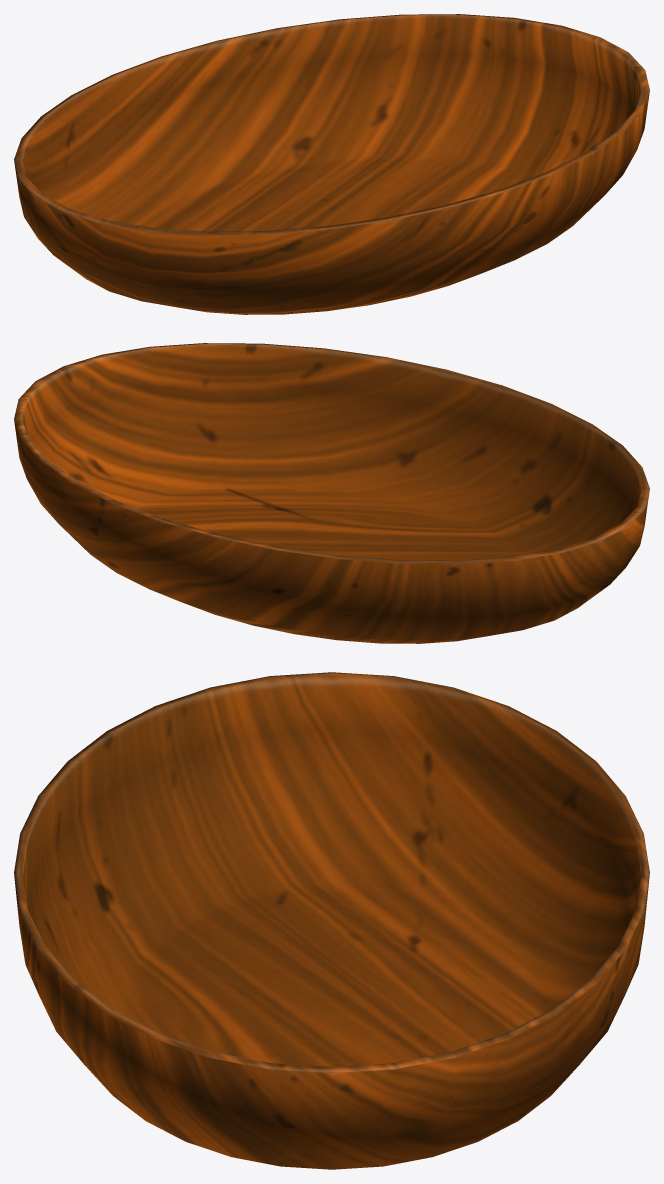
File: sb_obj_indoor006_Plate06.fbx
The picture shows the model from 3 angles, top to bottom: view 1: azimuth 30°, elevation 25°; view 2: azimuth 150°, elevation 25°; view 3: azimuth 270°, elevation 25°; orthographic projection. The views are drawn at different scales.
Visible parts, largest first — view 1: Plate6; view 2: Plate6; view 3: Plate6.
Part boxes in pixels (x1,y1,x2,y2): Plate6: (14, 14, 649, 314); Plate6: (14, 343, 649, 643); Plate6: (14, 672, 649, 1169).
Bounding box in the file's own units: 0.3677 × 0.0684 × 0.2465.
